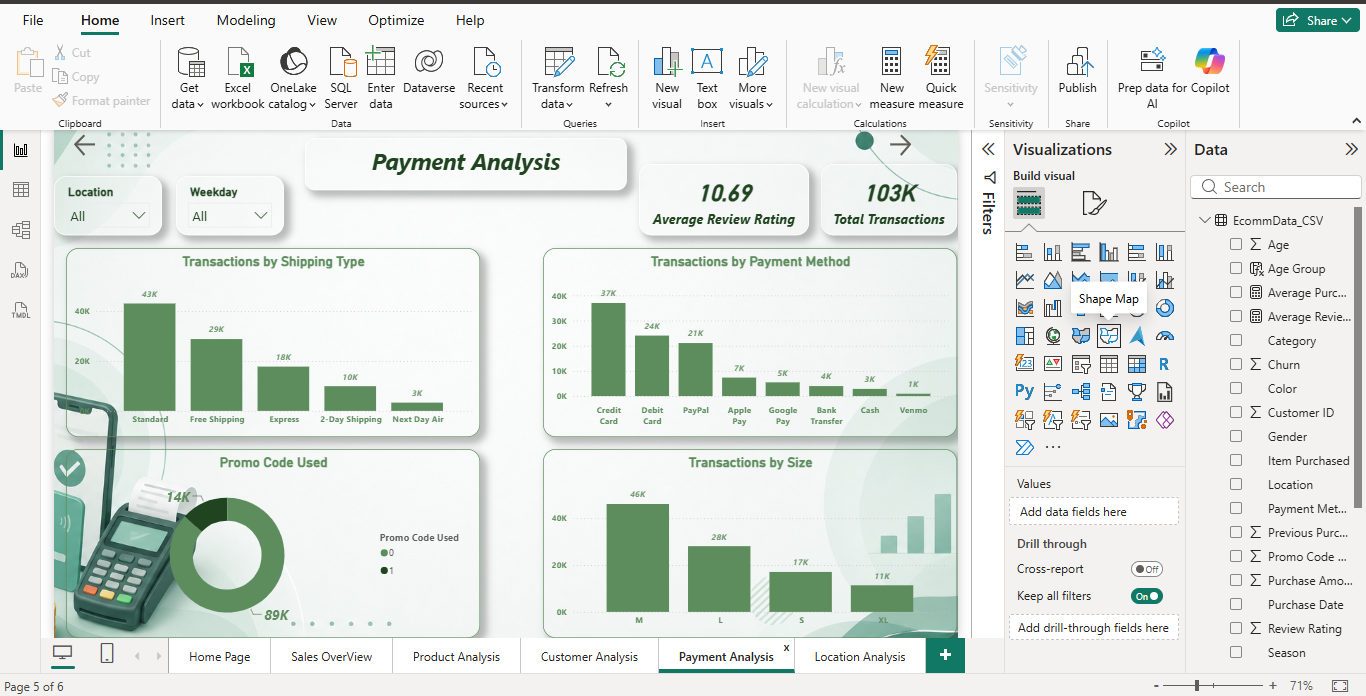

The page's visual inventory and layout, read from the dashboard file:
{"tool":"powerbi","page":{"name":"Payment Analysis","canvas":[1280,720],"ordinal":4},"visuals":[{"type":"textbox","box":[355.7,11.3,456.4,73.7],"z":0},{"type":"clusteredColumnChart","title":"Transactions by Payment Method","fields":{"Category":["EcommData_CSV.Payment Method"],"Y":["EcommData_CSV.Total Transactions"]},"box":[693.1,167.2,586.8,267.9],"z":1000},{"type":"clusteredColumnChart","title":"Transactions by Shipping Type","fields":{"Category":["EcommData_CSV.Shipping Type"],"Y":["EcommData_CSV.Total Transactions"]},"box":[17,167.2,586.8,267.9],"z":2000},{"type":"donutChart","title":"Promo Code Used","fields":{"Y":["EcommData_CSV.Total Transactions"],"Category":["EcommData_CSV.Promo Code Used"]},"box":[17,452.1,586.8,267.9],"z":3000},{"type":"clusteredColumnChart","title":"Transactions by Size","fields":{"Y":["EcommData_CSV.Total Transactions"],"Category":["EcommData_CSV.Size"]},"box":[693.1,452.1,586.8,267.9],"z":4000},{"type":"card","fields":{"Values":["EcommData_CSV.Total Transactions"]},"box":[1087.1,48.2,192.8,100.6],"z":5000},{"type":"card","fields":{"Values":["EcommData_CSV.Average Review Rating"]},"box":[829.1,48.2,240.9,100.6],"z":6000},{"type":"slicer","title":"Total Sales by Item Purchased","fields":{"Values":["EcommData_CSV.Location"]},"box":[0,65.2,153.1,83.6],"z":7000},{"type":"slicer","title":"Total Sales by Item Purchased","fields":{"Values":["EcommData_CSV.Weekday"]},"box":[172.9,65.2,153.1,83.6],"z":8000},{"type":"actionButton","box":[24.2,1.4,100,40],"z":9000},{"type":"actionButton","box":[1179.4,1.4,100,40],"z":10000}]}

Visuals, with their boxes on the page's 1280x720 design canvas (x1, y1, x2, y2). These are canvas units, not pixel positions in the 1366x696 screenshot, which may show the page scaled, cropped or inside an application window:
textbox: 356,11,812,85
"Transactions by Payment Method" clusteredColumnChart: 693,167,1280,435
"Transactions by Shipping Type" clusteredColumnChart: 17,167,604,435
"Promo Code Used" donutChart: 17,452,604,720
"Transactions by Size" clusteredColumnChart: 693,452,1280,720
card - EcommData_CSV.Total Transactions: 1087,48,1280,149
card - EcommData_CSV.Average Review Rating: 829,48,1070,149
"Total Sales by Item Purchased" slicer: 0,65,153,149
"Total Sales by Item Purchased" slicer: 173,65,326,149
actionButton: 24,1,124,41
actionButton: 1179,1,1279,41
